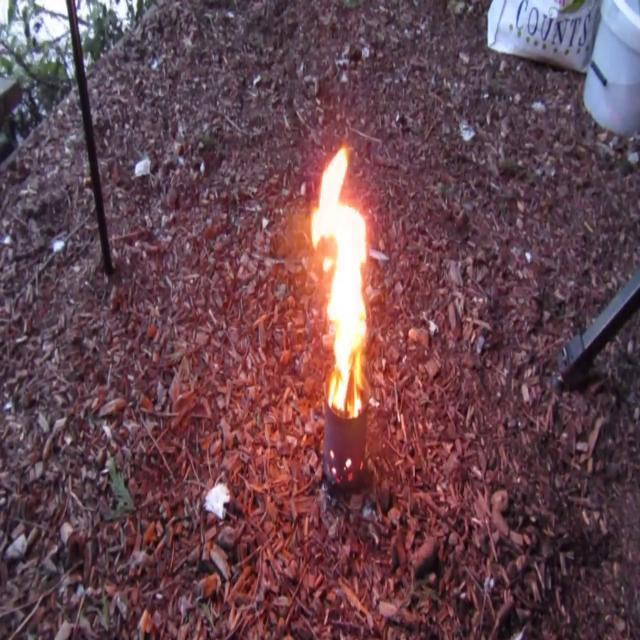Fire: (304, 144, 376, 408)
